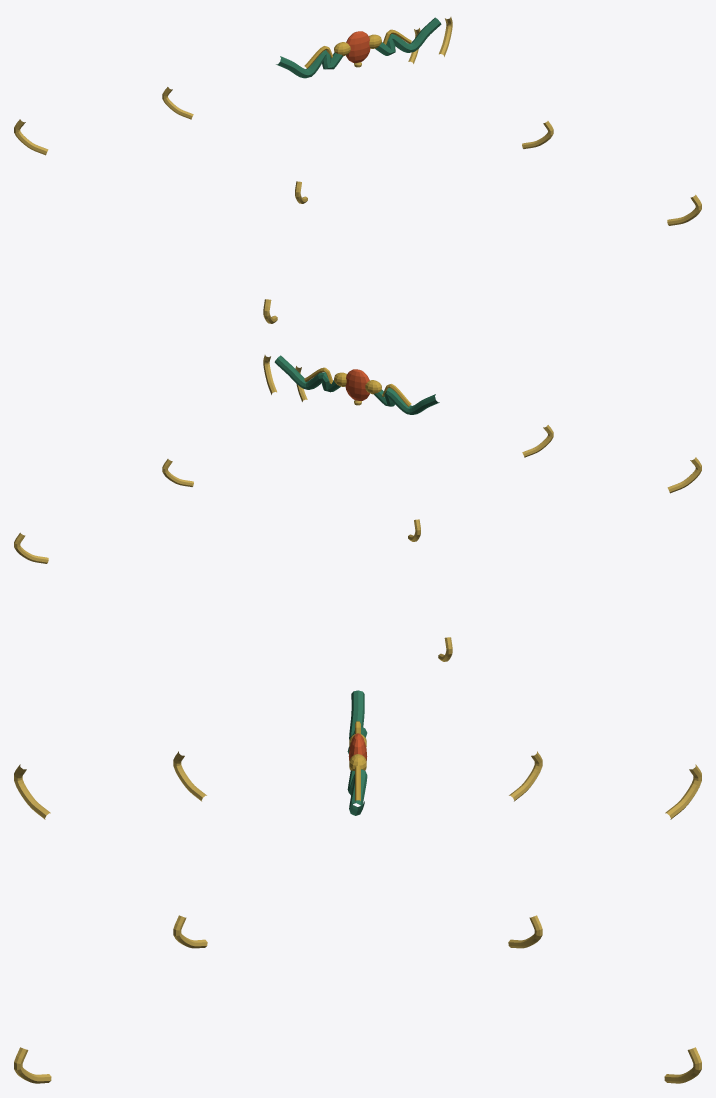
Rendered from nghenhluong-hero.glb.
3 renders of one model, top to bottom at view 1: azimuth 30°, elevation 25°; view 2: azimuth 150°, elevation 25°; view 3: azimuth 270°, elevation 25°, orthographic. The views are drawn at different scales.
Visible parts, largest first — view 1: nghenhluong_hero_ornaments; view 2: nghenhluong_hero_ornaments; view 3: nghenhluong_hero_ornaments.
Boxes of the visible parts, box(x1,y1,x2,y2) form: nghenhluong_hero_ornaments: box(14, 17, 701, 323); nghenhluong_hero_ornaments: box(14, 355, 701, 661); nghenhluong_hero_ornaments: box(14, 690, 701, 1083).
Bounding box in the file's own units: 11.44 × 3.97 × 11.44.
